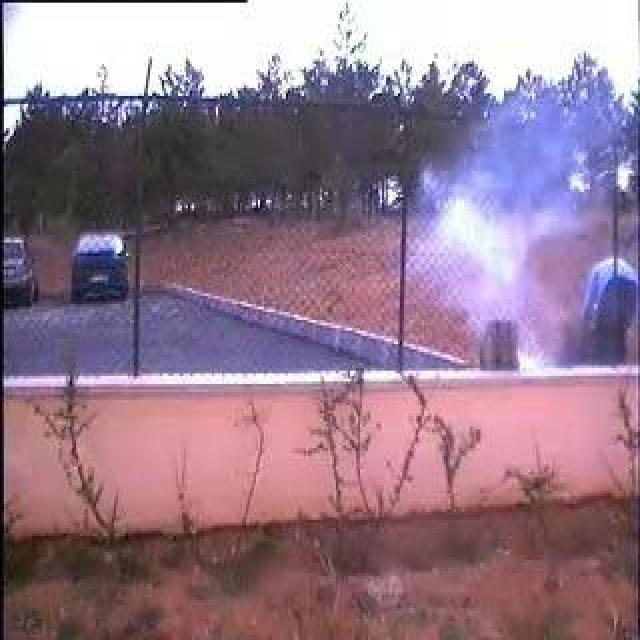Smoke: (427, 172, 553, 343)
